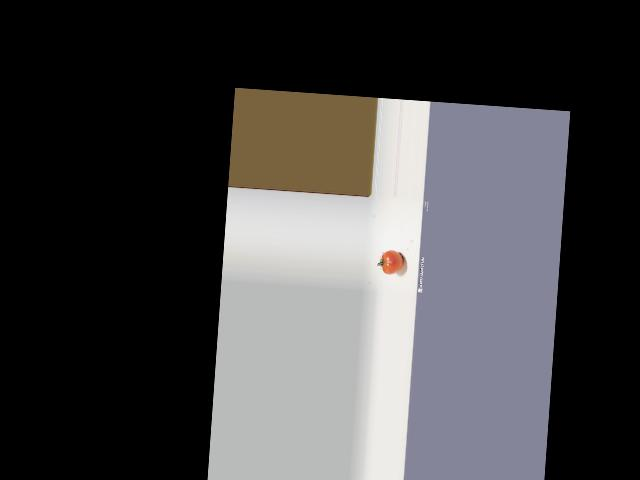tomato: (381, 249, 404, 274)
